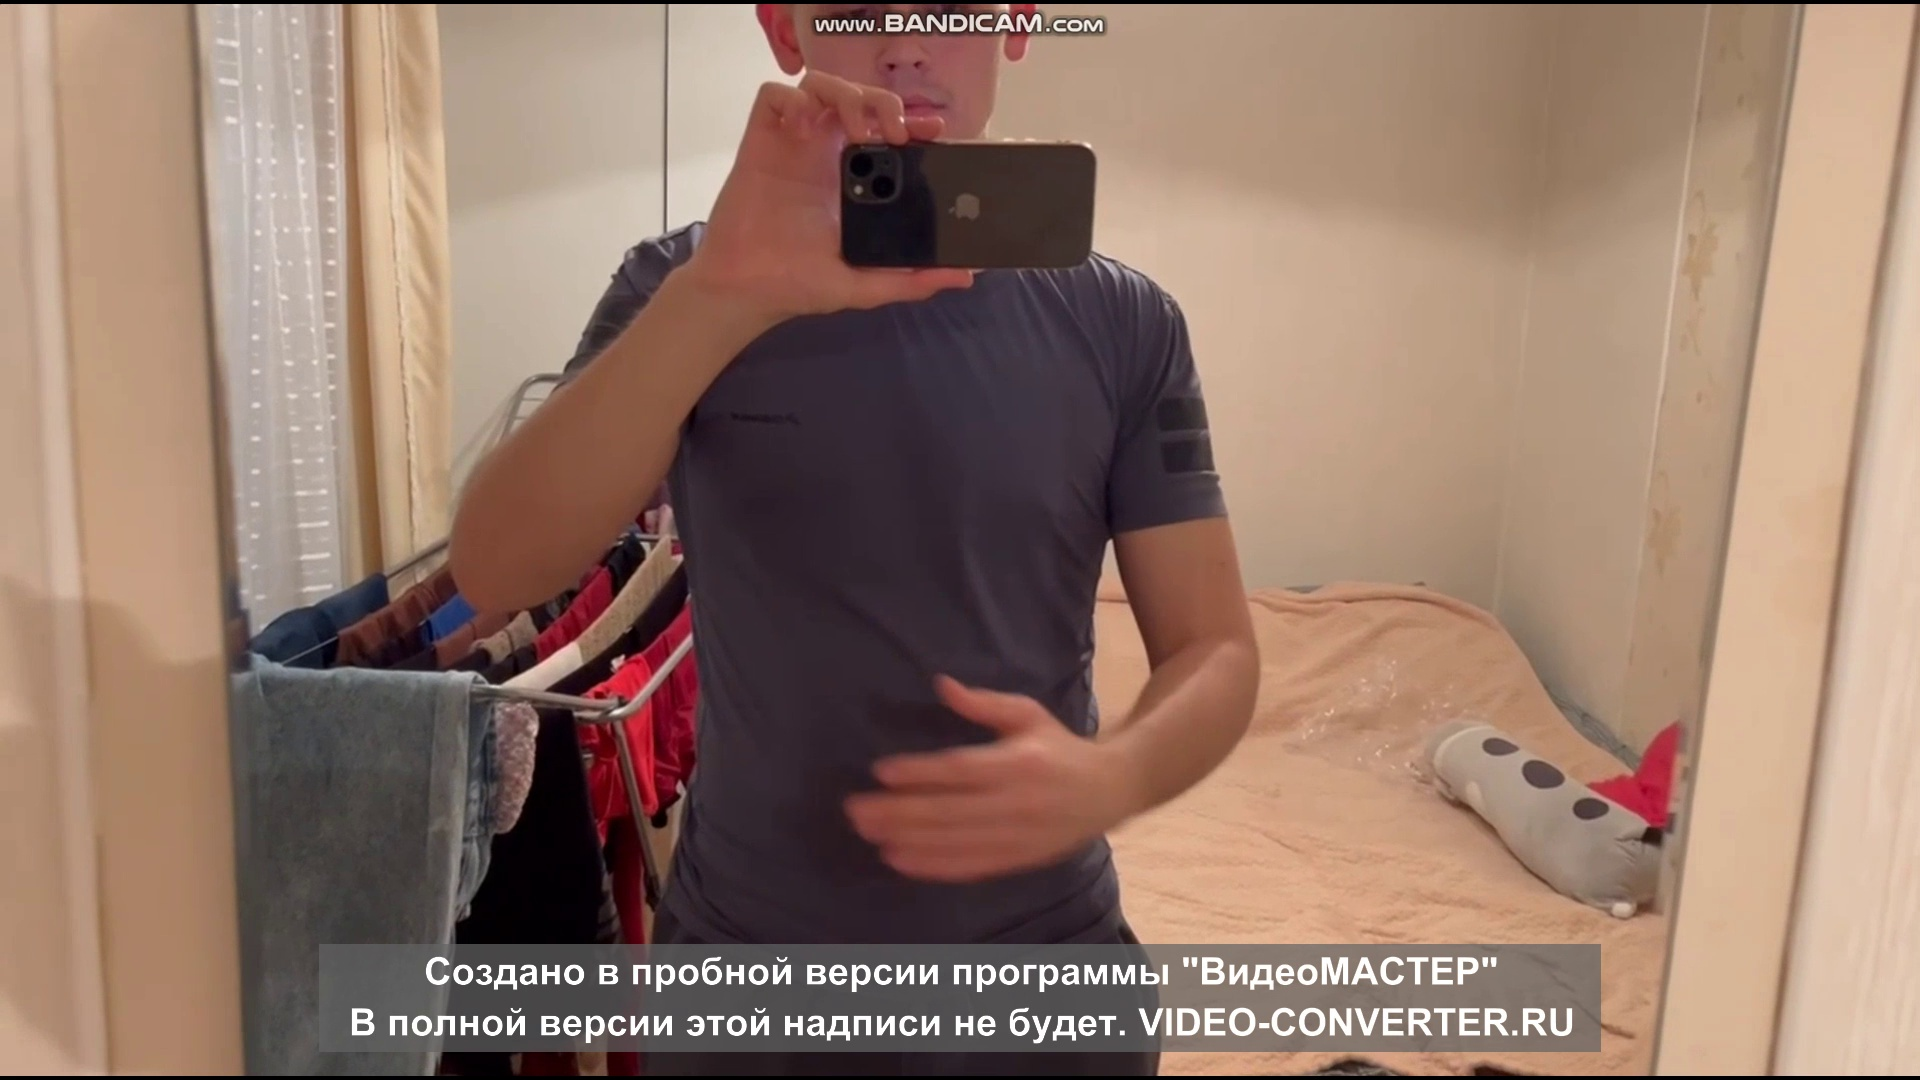Кисть: (847, 669, 1125, 884)
